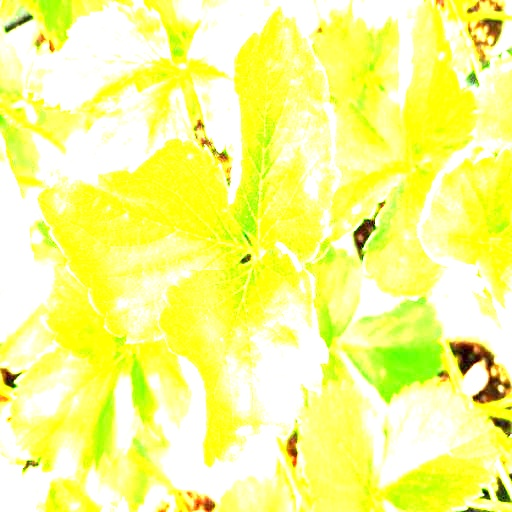Powdery Mildew Leaf: (34, 137, 251, 343), (157, 242, 329, 470), (229, 2, 340, 264), (315, 95, 409, 262), (414, 146, 511, 299), (397, 0, 480, 170)
